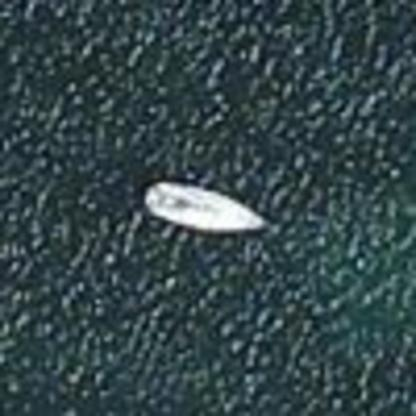ship: (128, 167, 286, 259)
